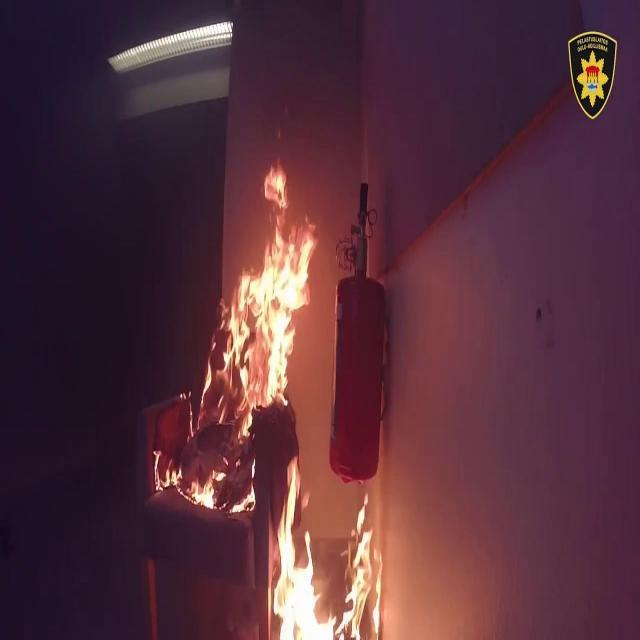fire: (205, 164, 304, 400), (277, 471, 382, 640), (152, 463, 258, 512)
